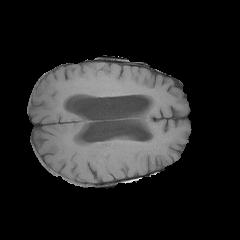glioma: (58, 78, 158, 107)
